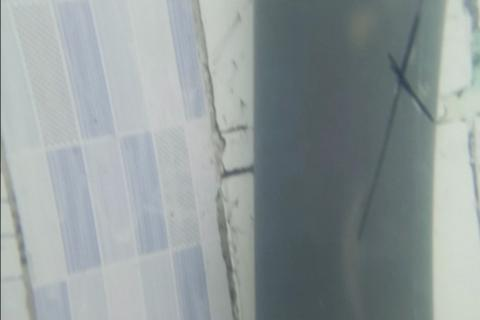keretakan: (353, 0, 436, 242)
